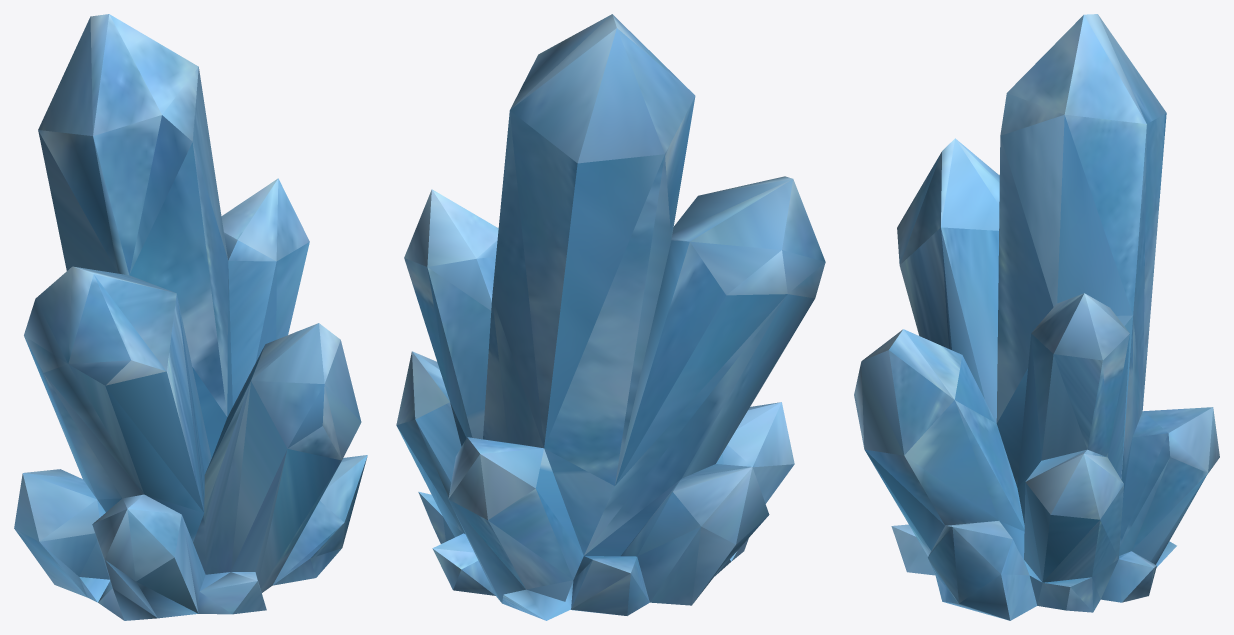
File: racimo_hielo_g_300.glb
3 renders of one model, left to right at view 1: azimuth 30°, elevation 25°; view 2: azimuth 150°, elevation 25°; view 3: azimuth 270°, elevation 25°, orthographic. The views are drawn at different scales.
Parts seen in each view (by area): view 1: racimo_hielo_g_malla; view 2: racimo_hielo_g_malla; view 3: racimo_hielo_g_malla.
Part boxes in pixels (bbox=[...]): racimo_hielo_g_malla: bbox=[14, 14, 367, 620]; racimo_hielo_g_malla: bbox=[396, 14, 825, 620]; racimo_hielo_g_malla: bbox=[854, 14, 1219, 620].
Size of the model in its own units: 0.1917 by 0.3089 by 0.1938.
1 material, 1 textured.
